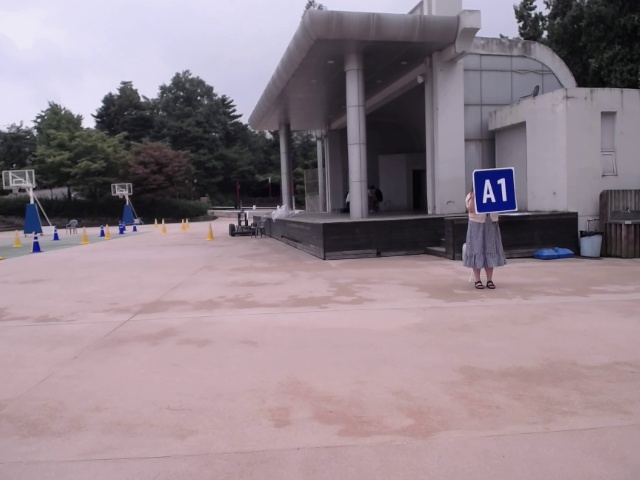delivery_a1: (472, 168, 518, 213)
